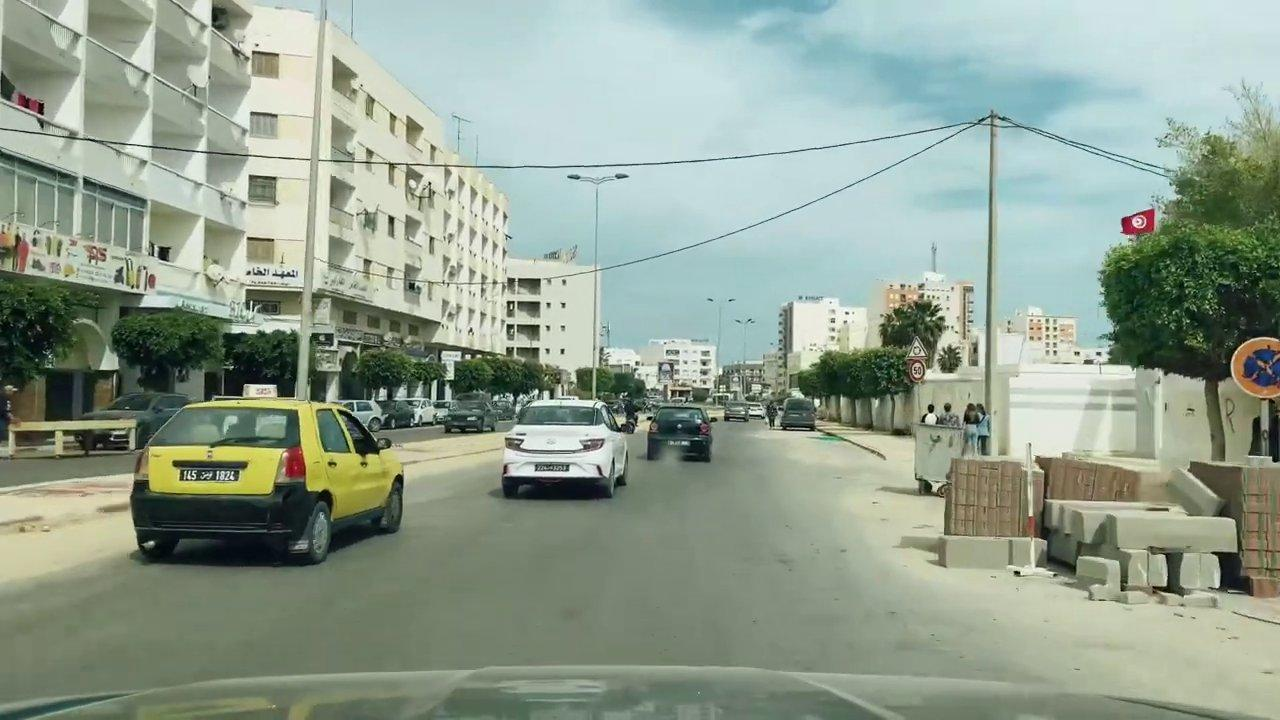no stopping: (1231, 333, 1280, 405)
roundabout: (904, 336, 930, 359)
speed limit 50: (909, 361, 928, 384)
